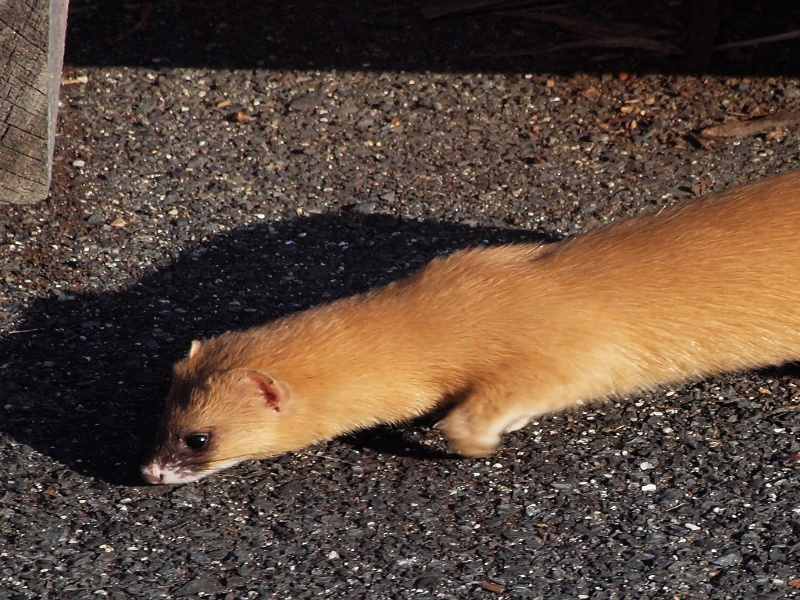minkish: (128, 148, 800, 503)
